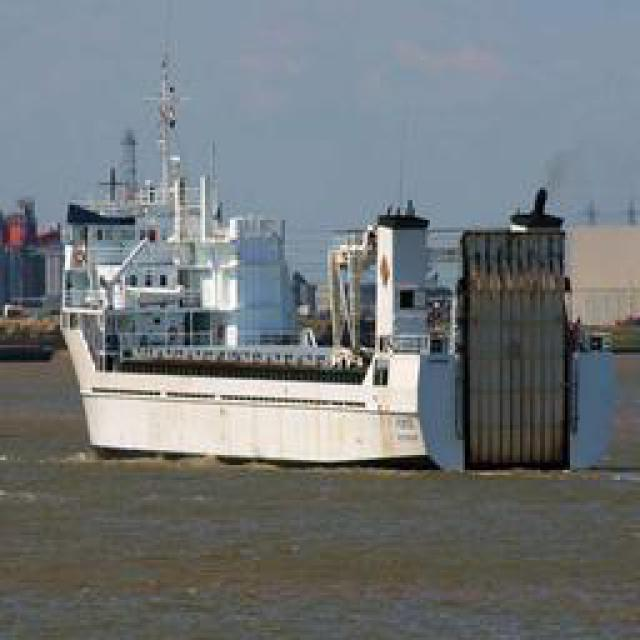Ship: (60, 53, 450, 468)
